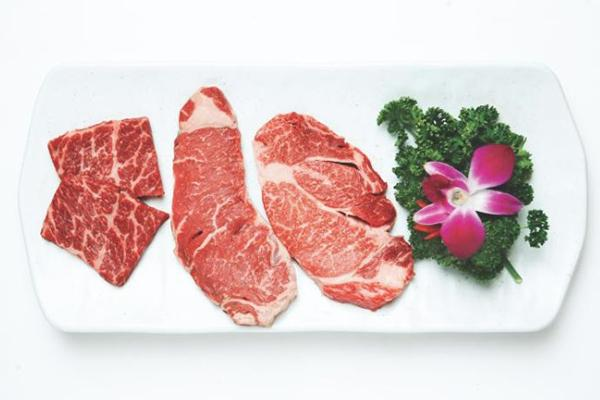beef: (242, 74, 382, 190), (170, 56, 245, 201), (48, 79, 143, 173)
